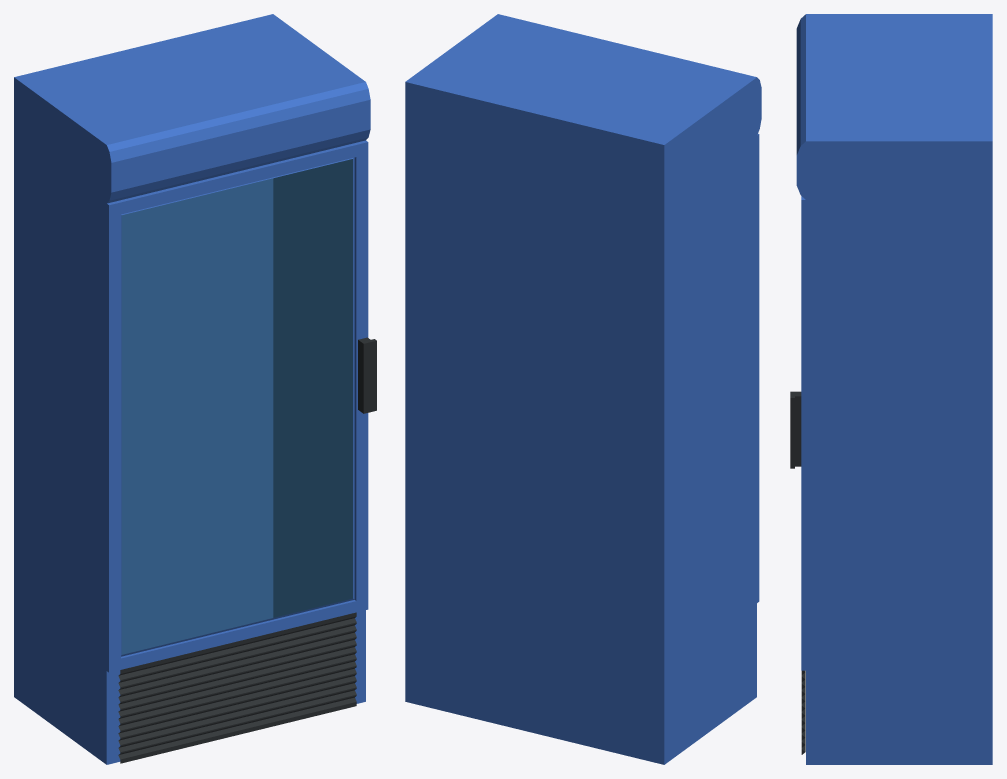
File: SM_fridge_drinks_03.fbx
3 renders of one model, left to right at view 1: azimuth 30°, elevation 25°; view 2: azimuth 150°, elevation 25°; view 3: azimuth 270°, elevation 25°, orthographic.
Visible parts, largest first — view 1: fridge_drinks_03; view 2: fridge_drinks_03; view 3: fridge_drinks_03.
Boxes of the visible parts, x1,y1,x2,y2 form: fridge_drinks_03: (14,14,376,764); fridge_drinks_03: (405,14,761,764); fridge_drinks_03: (790,14,992,764).
Bounding box in the file's own units: 109 × 247 × 72.79.
